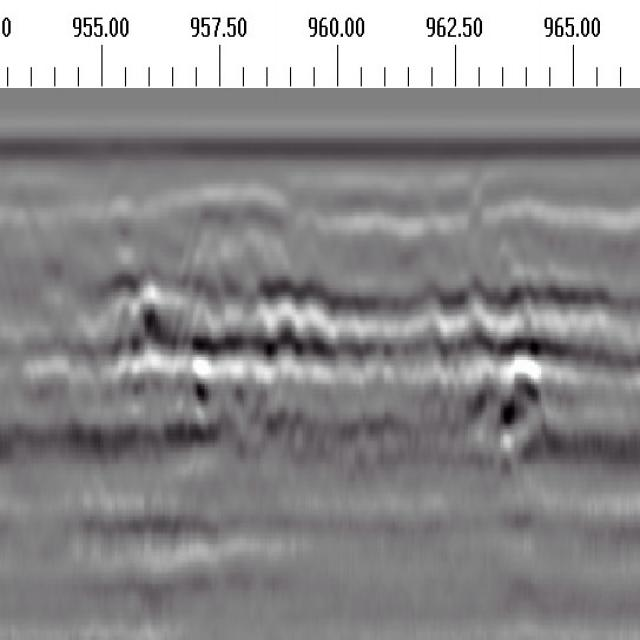loose: (427, 268, 604, 446), (111, 270, 344, 391)
